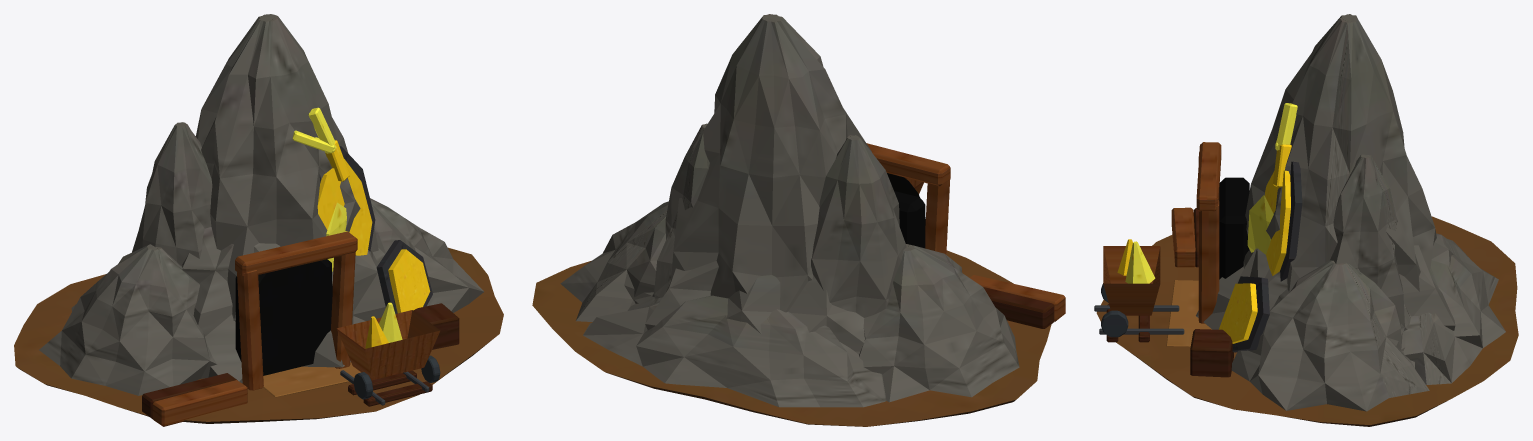
The picture shows the model from 3 angles, left to right: view 1: azimuth 30°, elevation 25°; view 2: azimuth 150°, elevation 25°; view 3: azimuth 270°, elevation 25°; orthographic projection. The views are drawn at different scales.
Parts seen in each view (by area): view 1: WK_GoldMine_LOD2_Compact.001; view 2: WK_GoldMine_LOD2_Compact.001; view 3: WK_GoldMine_LOD2_Compact.001.
Boxes of the visible parts, bbox=[...] form: WK_GoldMine_LOD2_Compact.001: bbox=[14, 14, 503, 426]; WK_GoldMine_LOD2_Compact.001: bbox=[532, 14, 1065, 426]; WK_GoldMine_LOD2_Compact.001: bbox=[1094, 14, 1518, 426].
Bounding box in the file's own units: 12.64 × 7.93 × 10.03.
1 material, 1 textured.
